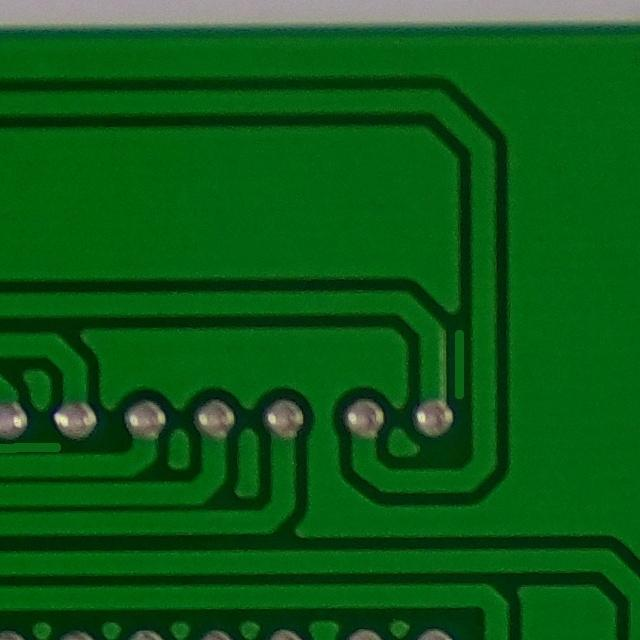spurious_copper: (432, 315, 484, 410), (0, 422, 69, 464)
